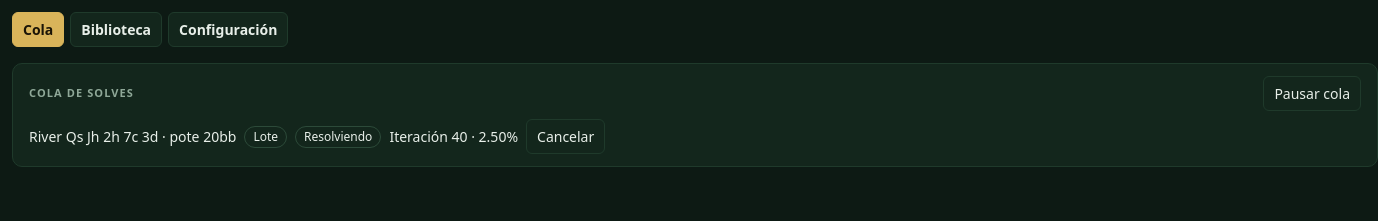
Test: SolverPage › shows an error when cancelling a job fails
Click the button "Cancelar" at [566, 136], box [526,119,605,154]
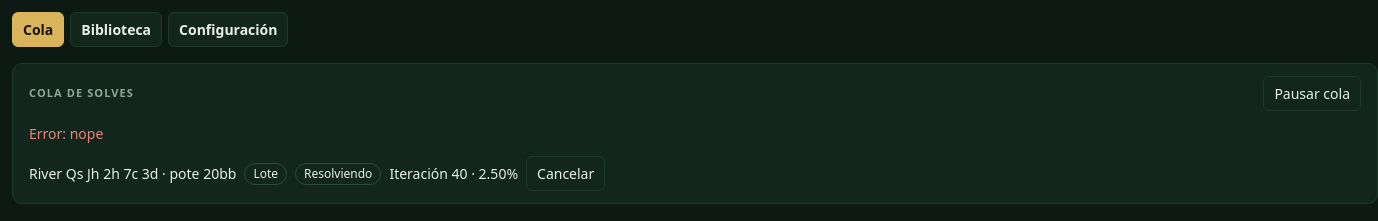
Expected: the text "Error: nope" is shown, [29,124,103,143]
